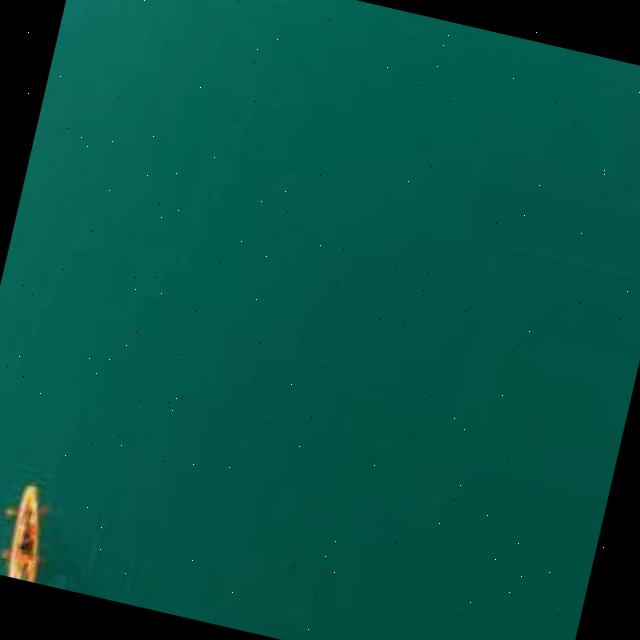kayak: (5, 482, 41, 583)
